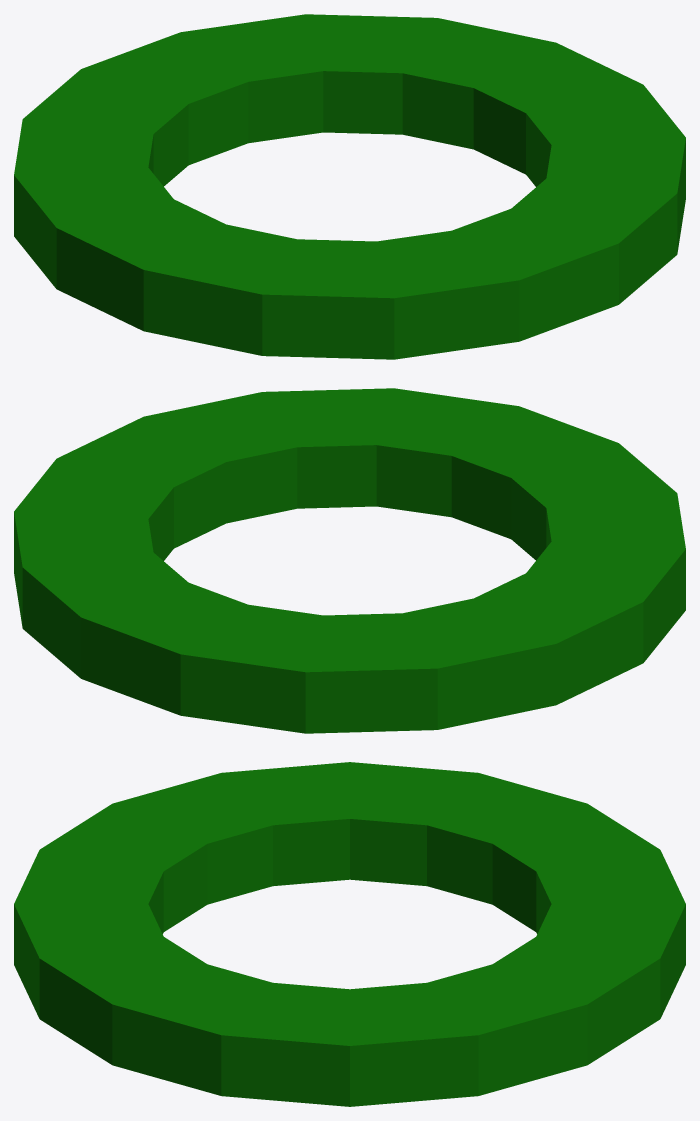
3 renders of one model, top to bottom at view 1: azimuth 30°, elevation 25°; view 2: azimuth 150°, elevation 25°; view 3: azimuth 270°, elevation 25°, orthographic.
Parts seen in each view (by area): view 1: Cylinder; view 2: Cylinder; view 3: Cylinder.
Boxes of the visible parts, x1,y1,x2,y2 form: Cylinder: (14,14,685,359); Cylinder: (14,388,685,733); Cylinder: (14,762,685,1106).
Size of the model in its own units: 2 by 2 by 0.2.
